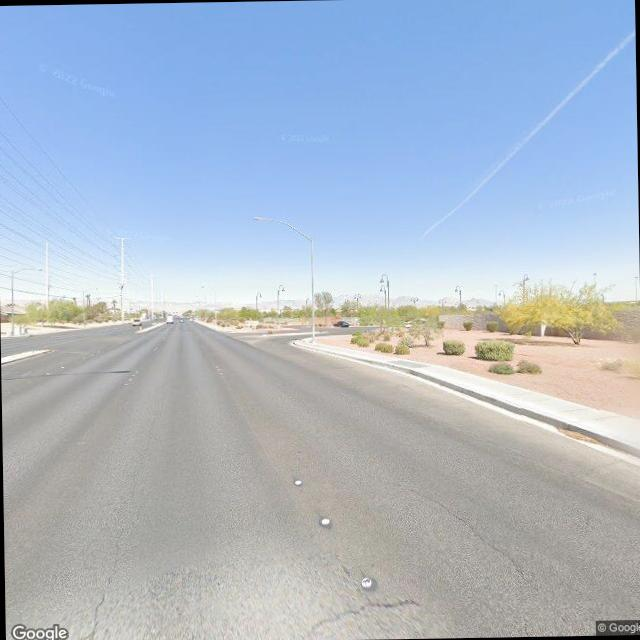pothole: (402, 484, 538, 590), (84, 525, 131, 640)
